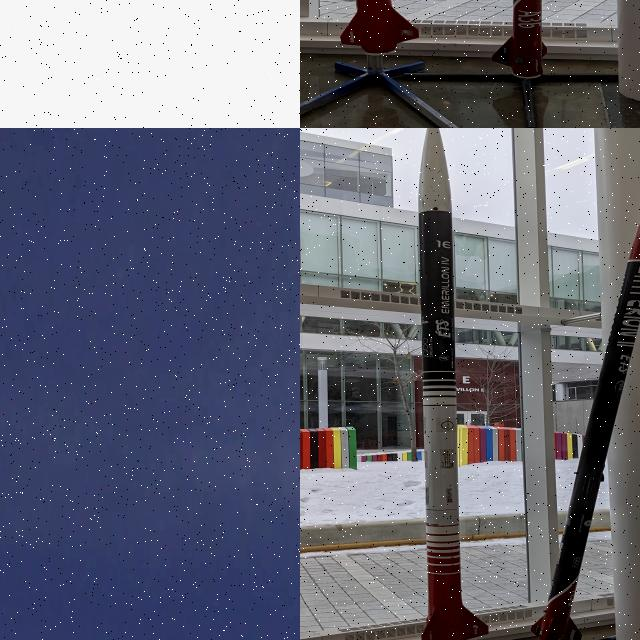Rocket: (531, 220, 640, 640), (418, 128, 489, 640)
